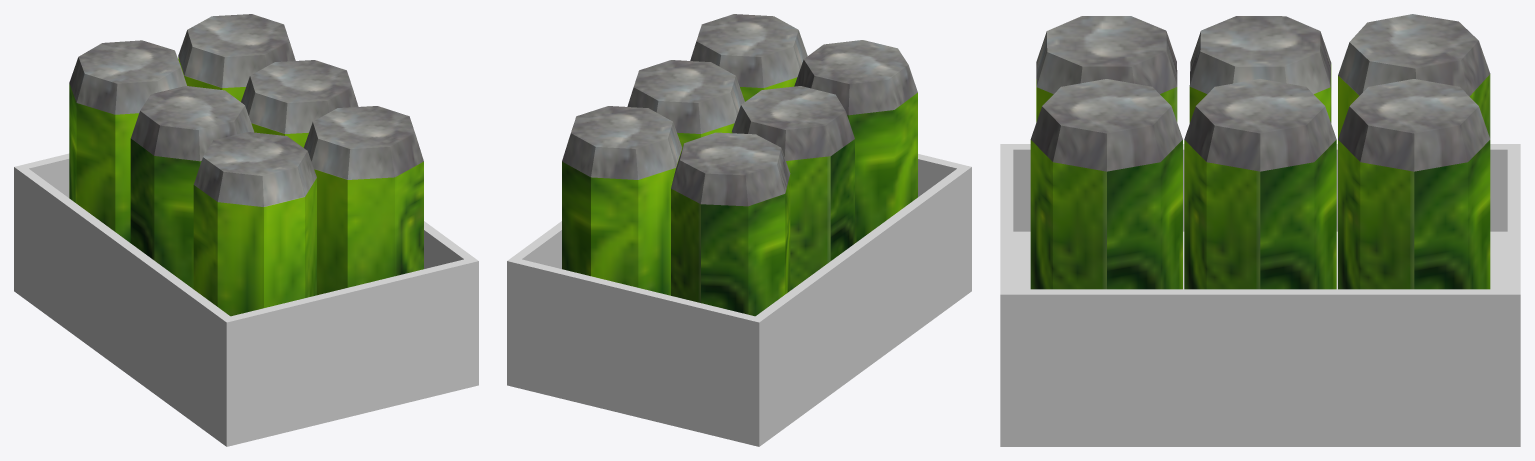
The model's file is CartPipes.fbx.
The picture shows the model from 3 angles, left to right: view 1: azimuth 30°, elevation 25°; view 2: azimuth 150°, elevation 25°; view 3: azimuth 270°, elevation 25°; orthographic projection. The views are drawn at different scales.
Parts seen in each view (by area): view 1: Cube; view 2: Cube; view 3: Cube.
Boxes of the visible parts, x1,y1,x2,y2 form: Cube: (14,14,478,446); Cube: (507,14,971,446); Cube: (1000,14,1520,446).
Bounding box in the file's own units: 1.7 × 1.57 × 2.48.
2 materials, 1 textured.
